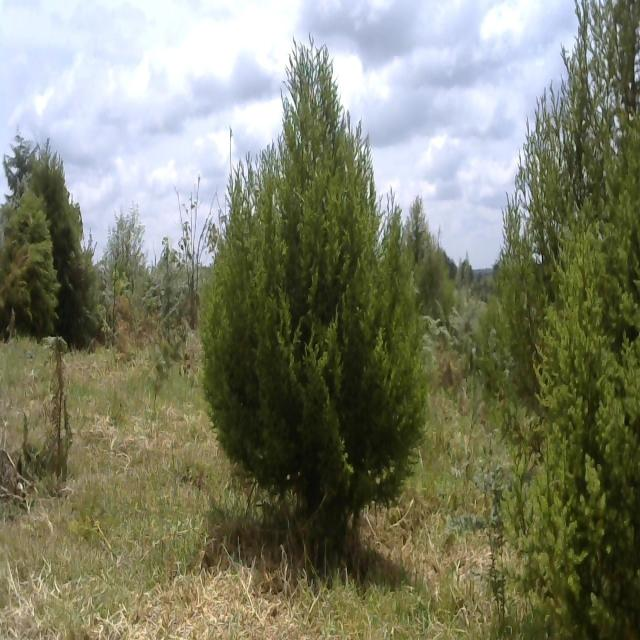Juniperus procesera: (190, 7, 440, 605), (505, 111, 640, 640), (510, 0, 640, 346), (0, 183, 59, 330), (27, 139, 84, 268)
